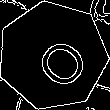O_NW: (19, 23, 86, 89)
